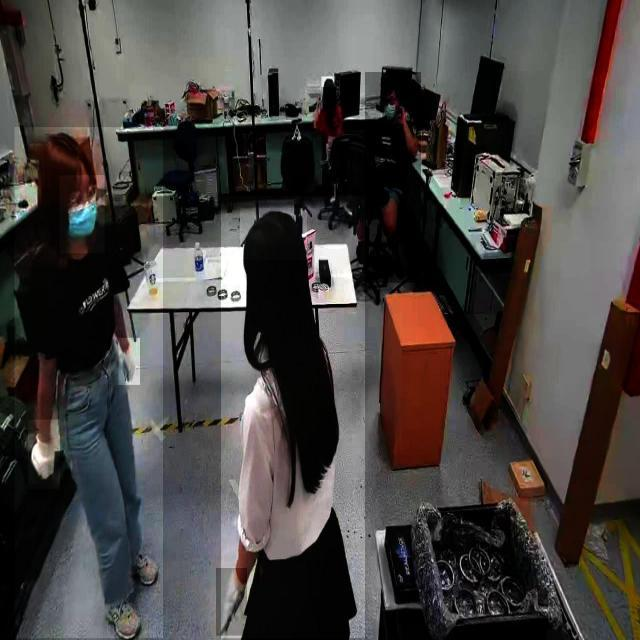boots: (548, 514, 588, 590), (97, 581, 143, 640), (122, 542, 162, 590), (572, 384, 610, 430)
gloves: (28, 420, 61, 490), (216, 568, 248, 636), (118, 338, 140, 385)
helmet: (488, 339, 536, 387)
vest: (536, 95, 588, 134)
